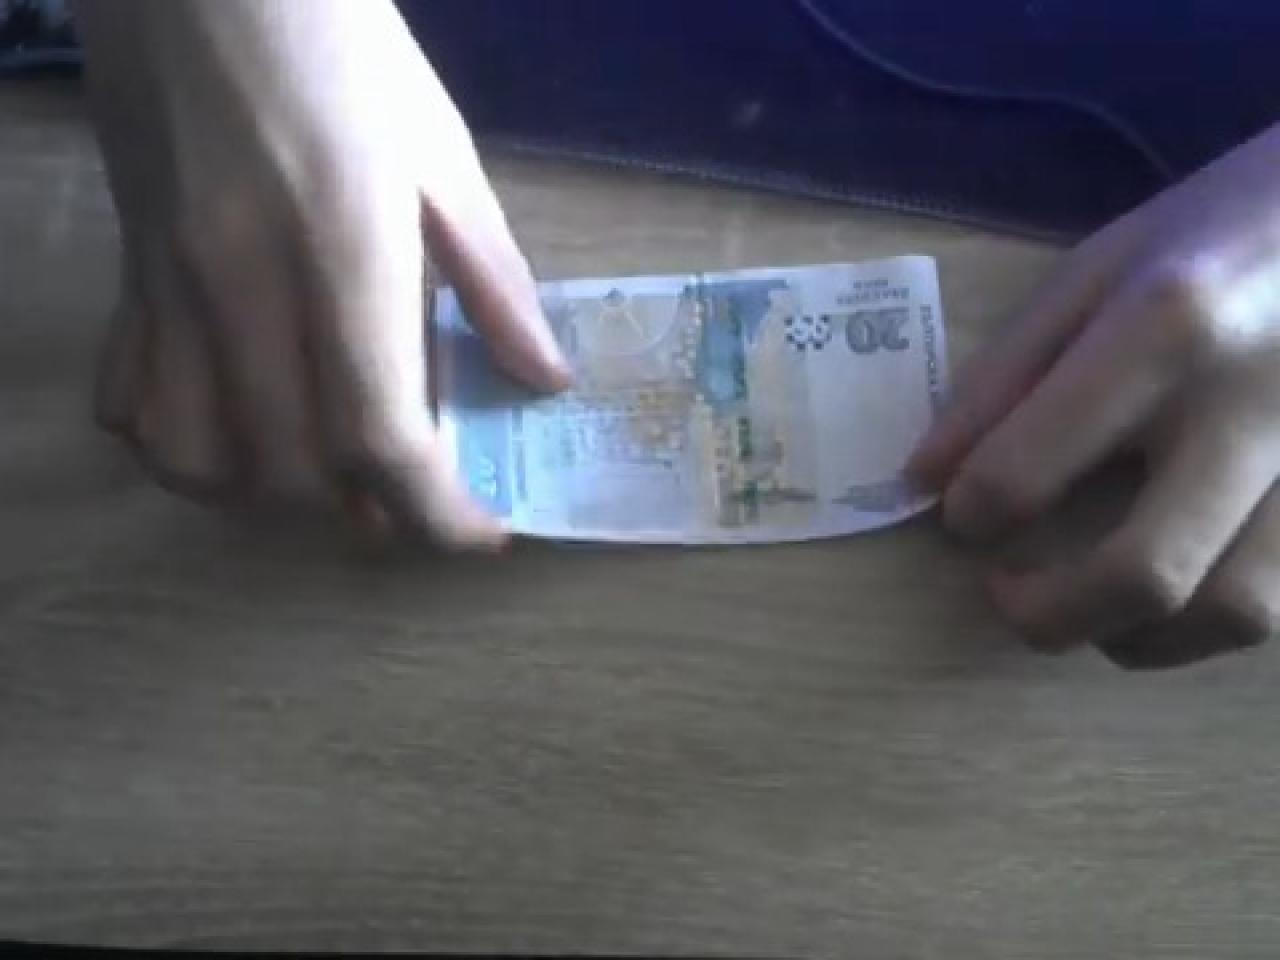20leva: (423, 251, 957, 550)
